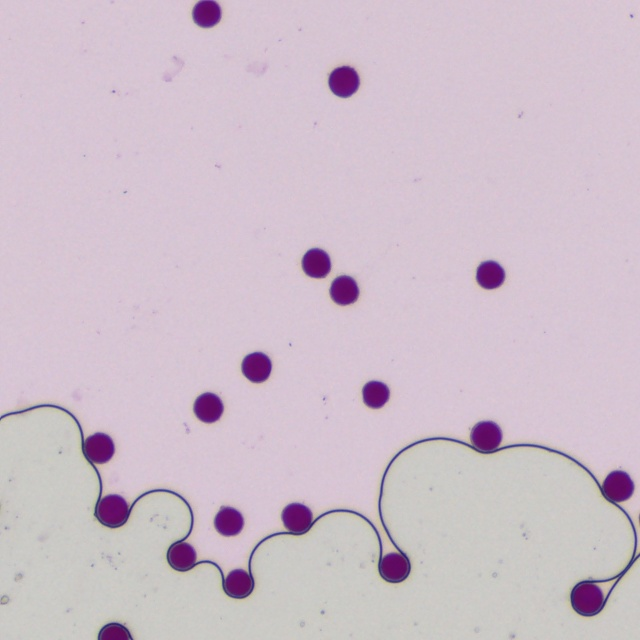viable: (572, 583, 603, 614), (97, 495, 127, 526), (329, 67, 359, 97), (603, 471, 633, 501), (381, 553, 410, 582), (471, 422, 501, 450), (243, 353, 271, 382), (195, 393, 223, 422), (85, 434, 114, 462), (215, 507, 243, 535), (283, 504, 311, 532), (331, 276, 358, 304), (303, 249, 330, 277), (477, 261, 504, 289), (225, 570, 253, 597), (168, 543, 196, 570), (193, 0, 220, 27), (363, 381, 389, 408), (99, 623, 132, 639)
